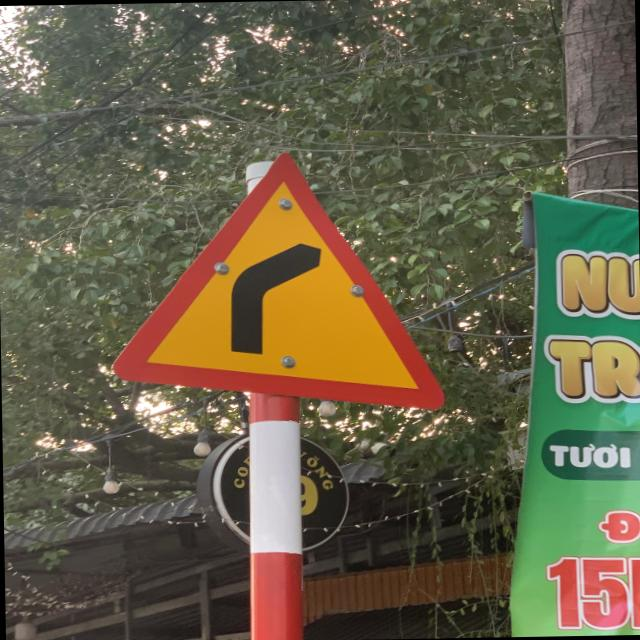Duong_Nguoi_Di_Bo_Cat_Ngang: (108, 148, 450, 412)
